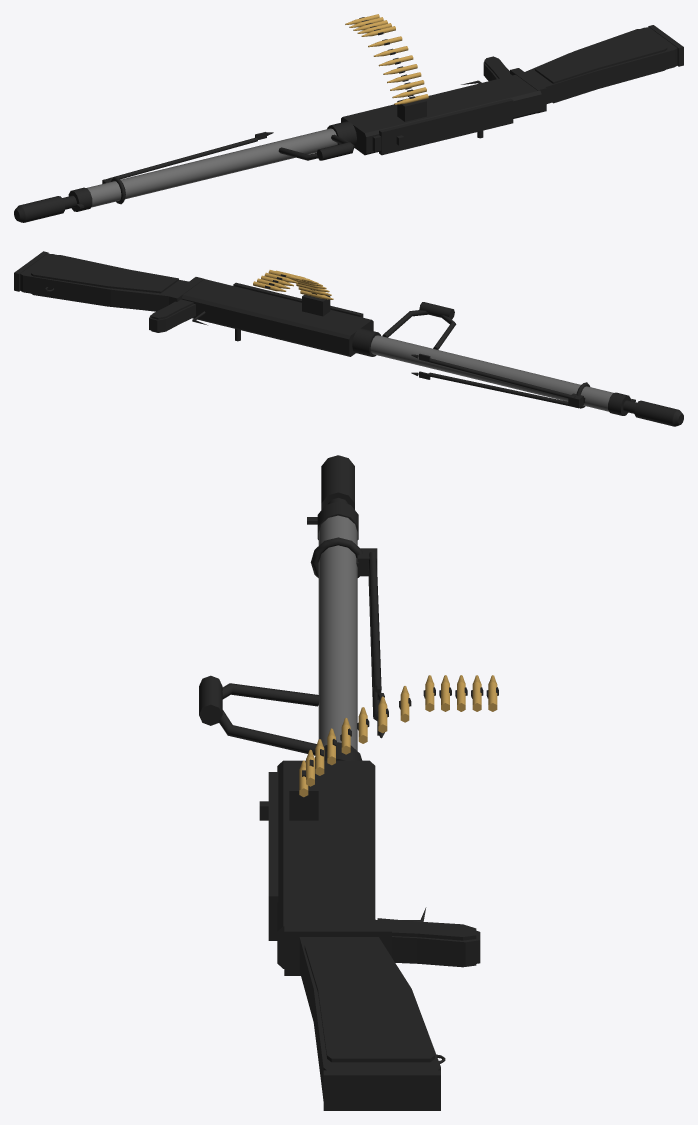
Rendered from stinger_anm2.obj.
3 views of the same model, one above another, from view 1: azimuth 30°, elevation 25°; view 2: azimuth 150°, elevation 25°; view 3: azimuth 270°, elevation 25° (orthographic). The views are drawn at different scales.
Visible parts, largest first — view 1: barrel_0, barrel_2, barrel_1; view 2: barrel_0, barrel_2, barrel_1; view 3: barrel_0, barrel_2, barrel_1.
Part boxes in pixels (box(x1,y1,x2,y2)): barrel_0: box(14, 17, 683, 222); barrel_2: box(87, 128, 337, 207); barrel_1: box(345, 14, 428, 104); barrel_0: box(14, 251, 683, 426); barrel_2: box(370, 335, 613, 411); barrel_1: box(253, 270, 333, 299); barrel_0: box(199, 455, 498, 1110); barrel_2: box(318, 515, 357, 750); barrel_1: box(299, 675, 497, 797).
Bounding box in the file's own units: 1.51 × 0.2312 × 0.306.
